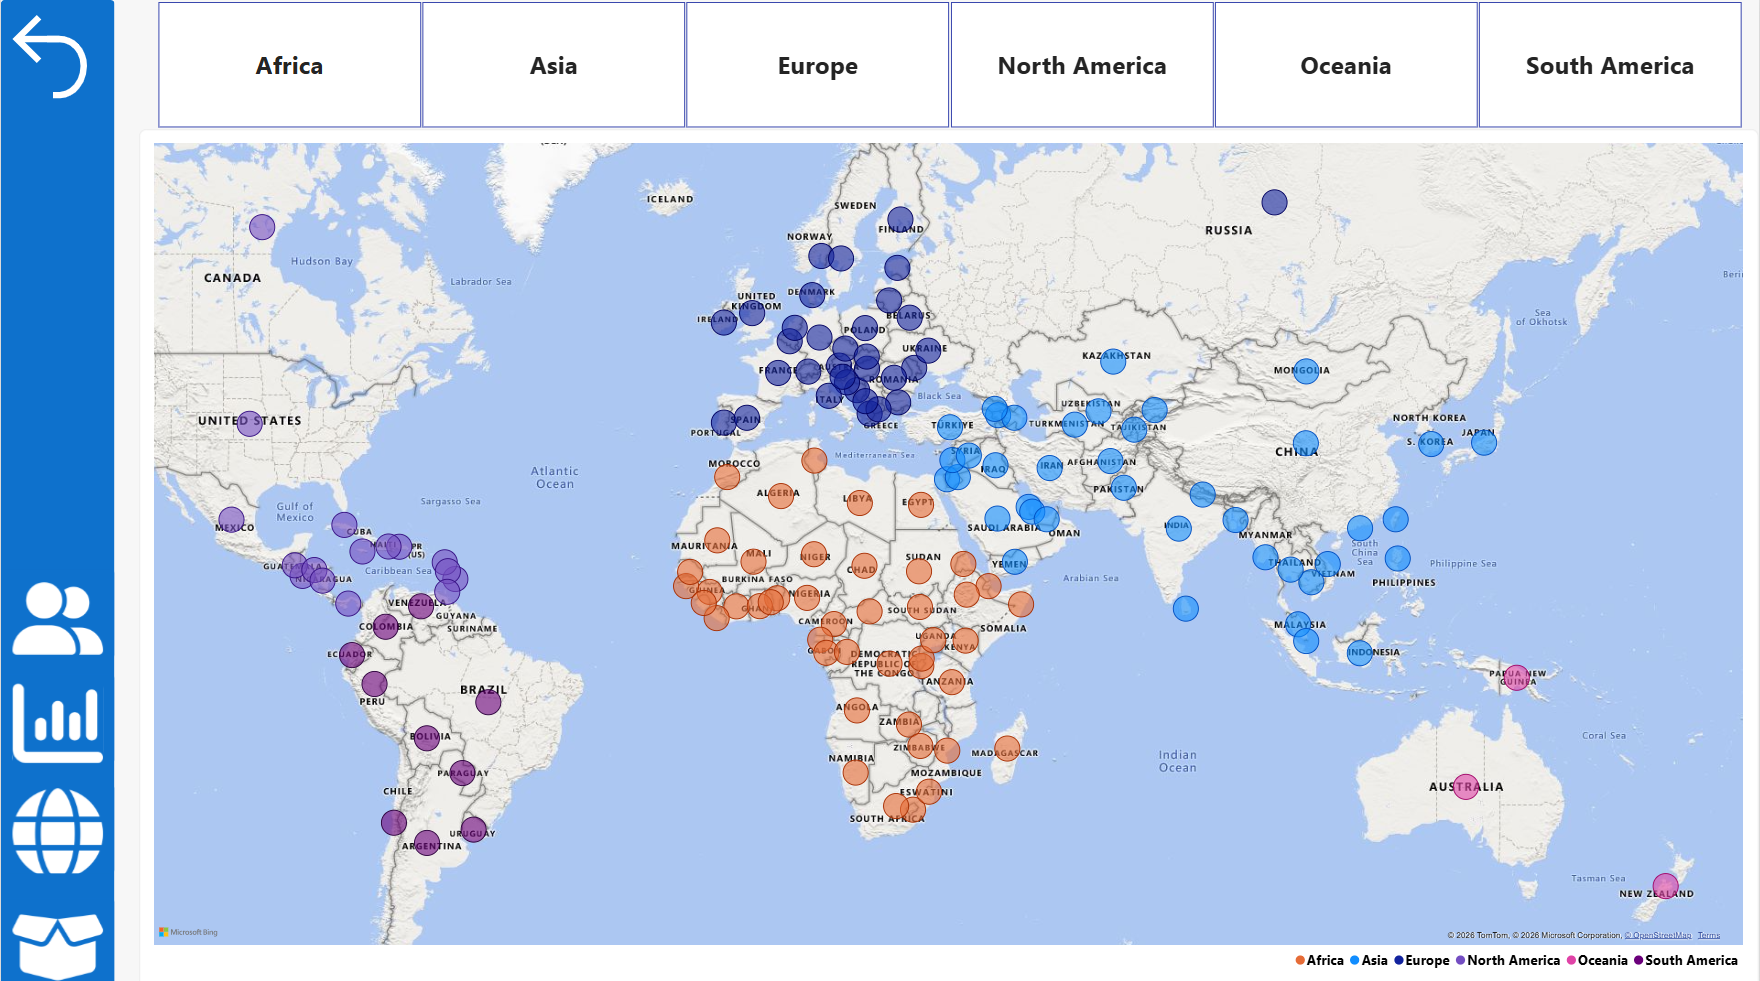

The dashboard page shown, as its layout file describes it:
{"tool":"powerbi","page":{"name":"Country","canvas":[1920,1080],"ordinal":2},"visuals":[{"type":"slicer","fields":{"Values":["superstore.Continent"]},"box":[150.7,0,1769.1,141.4],"z":0},{"type":"map","fields":{"Category":["superstore.Country"],"Series":["superstore.Continent"]},"box":[150.7,141.4,1769.1,939.4],"z":1000},{"type":"actionButton","box":[0,0,124,1078],"z":2000},{"type":"actionButton","box":[0,981,124,97],"z":3000},{"type":"actionButton","box":[0,857.6,124,97],"z":4000},{"type":"actionButton","box":[0,736.7,124,97],"z":5000},{"type":"actionButton","box":[0,0,108.3,124],"z":6000},{"type":"actionButton","box":[0,622.5,124,97],"z":7000}]}

Visuals, with their boxes on the page's 1920x1080 design canvas (x1, y1, x2, y2). These are canvas units, not pixel positions in the 1760x981 screenshot, which may show the page scaled, cropped or inside an application window:
slicer - superstore.Continent: Rect(151, 0, 1920, 141)
map - superstore.Country x superstore.Continent: Rect(151, 141, 1920, 1081)
actionButton: Rect(0, 0, 124, 1078)
actionButton: Rect(0, 981, 124, 1078)
actionButton: Rect(0, 858, 124, 955)
actionButton: Rect(0, 737, 124, 834)
actionButton: Rect(0, 0, 108, 124)
actionButton: Rect(0, 622, 124, 720)
